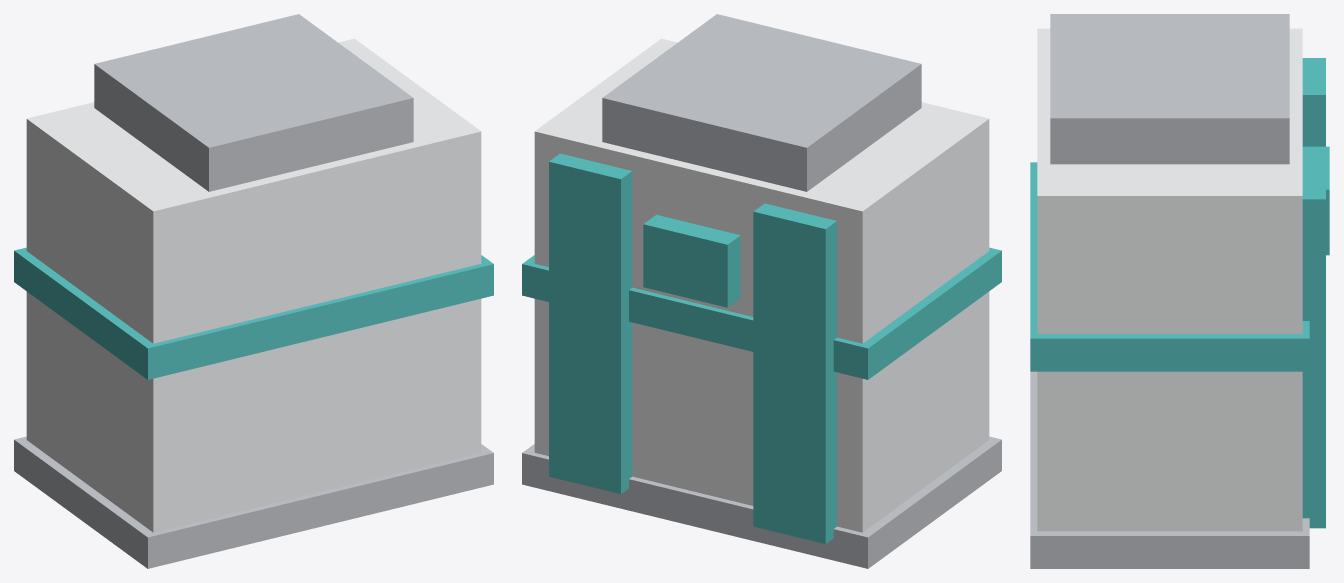
File: astronauta_retro_tronco.glb
3 views of the same model, side by side, from view 1: azimuth 30°, elevation 25°; view 2: azimuth 150°, elevation 25°; view 3: azimuth 270°, elevation 25° (orthographic). The views are drawn at different scales.
Parts seen in each view (by area): view 1: astronauta_retro_tronco; view 2: astronauta_retro_tronco; view 3: astronauta_retro_tronco.
Part boxes in pixels (x1,y1,x2,y2): astronauta_retro_tronco: [14, 14, 493, 568]; astronauta_retro_tronco: [522, 14, 1001, 568]; astronauta_retro_tronco: [1030, 14, 1329, 568].
Bounding box in the file's own units: 0.575 × 0.63 × 0.4125.
